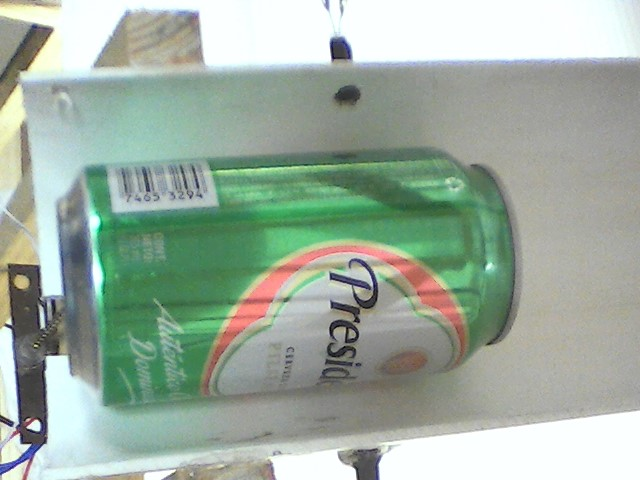lata: (52, 143, 529, 410)
